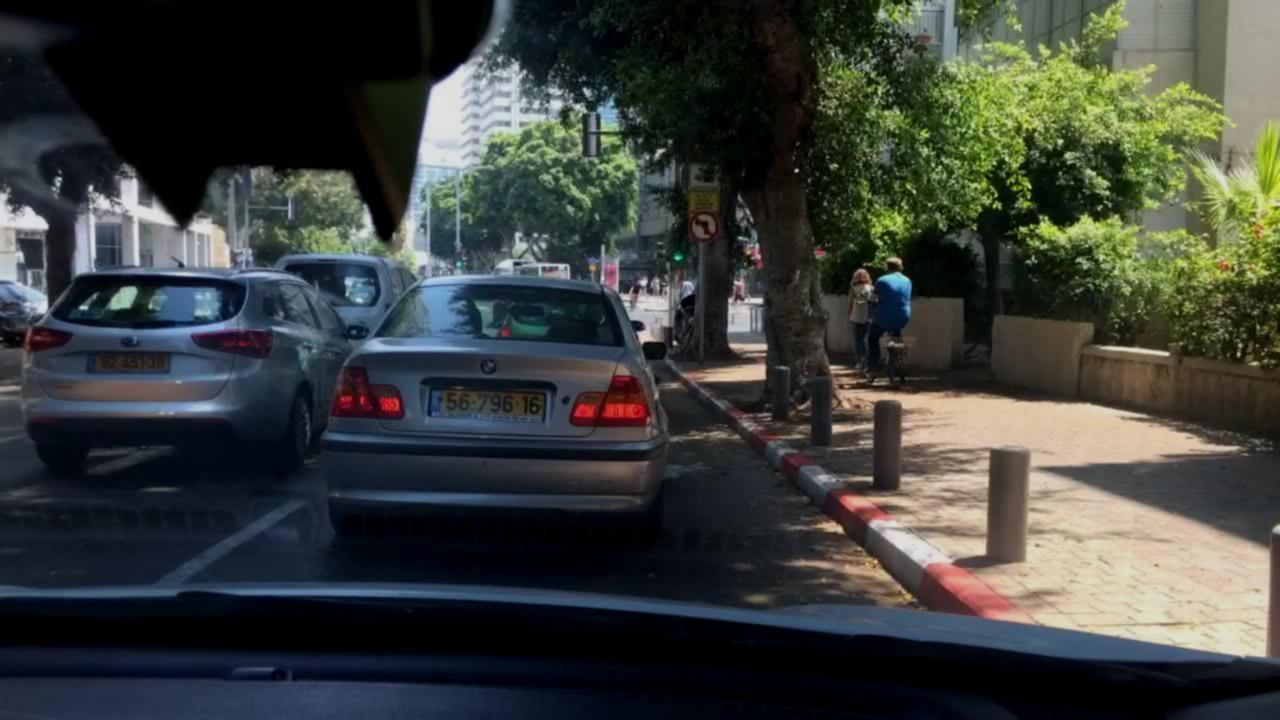bmw: (465, 350, 510, 381), (108, 330, 152, 355)
